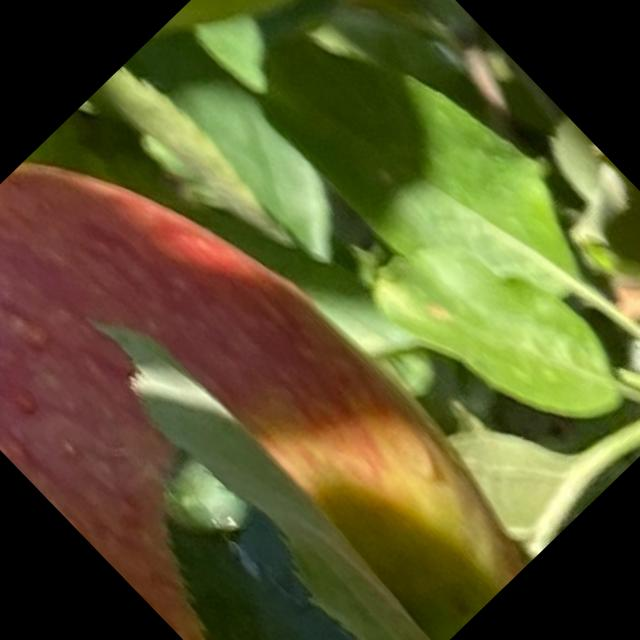Apples: (0, 81, 551, 639)
